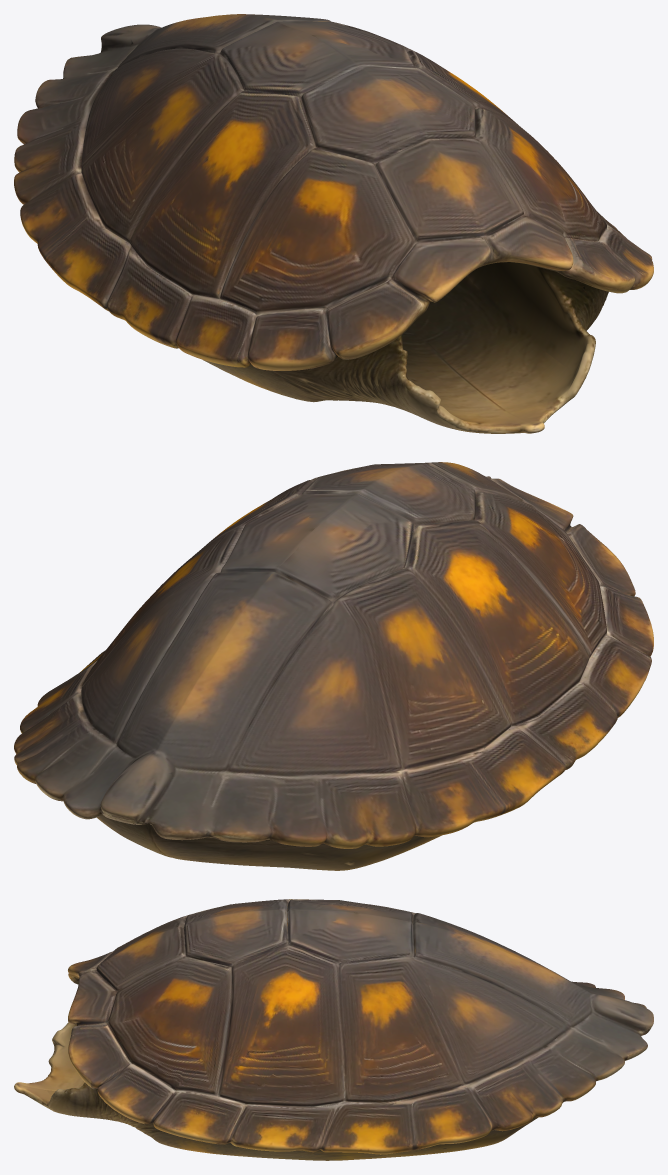
Rendered from turtle_shell.glb.
The picture shows the model from 3 angles, top to bottom: view 1: azimuth 30°, elevation 25°; view 2: azimuth 150°, elevation 25°; view 3: azimuth 270°, elevation 25°; orthographic projection. The views are drawn at different scales.
Parts seen in each view (by area): view 1: pivot; view 2: pivot; view 3: pivot.
Part boxes in pixels (x1,y1,x2,y2): pivot: (14, 14, 653, 433); pivot: (14, 462, 653, 870); pivot: (14, 899, 653, 1160).
Bounding box in the file's own units: 1.88 × 0.9688 × 2.96.
Materials: 1 (1 with a texture image).
